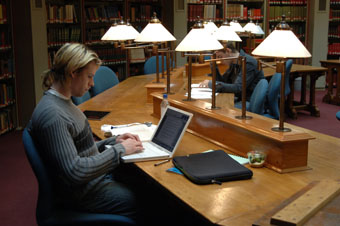person: (28, 41, 145, 226)
